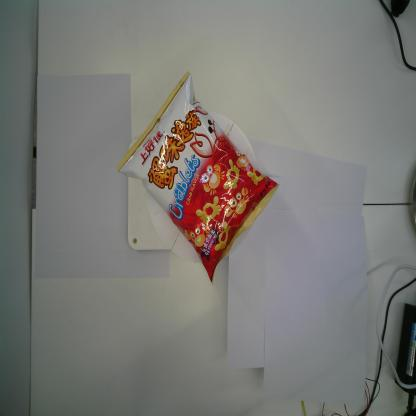Puffed Food: (116, 72, 280, 288)
